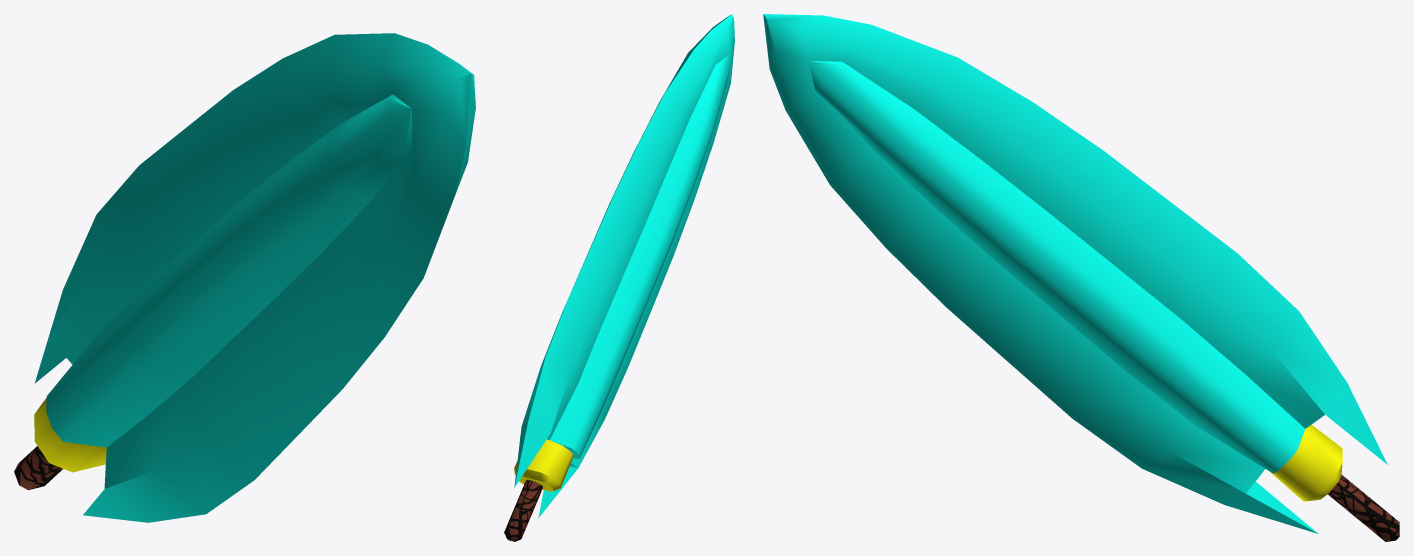
The model's file is EspadaAncha.fbx.
The picture shows the model from 3 angles, left to right: view 1: azimuth 30°, elevation 25°; view 2: azimuth 150°, elevation 25°; view 3: azimuth 270°, elevation 25°; orthographic projection. The views are drawn at different scales.
Visible parts, largest first — view 1: EspaadaAncha; view 2: EspaadaAncha; view 3: EspaadaAncha.
Part boxes in pixels (<box>): EspaadaAncha: <box>14,33,475,522</box>; EspaadaAncha: <box>504,14,734,541</box>; EspaadaAncha: <box>763,14,1399,541</box>.
Bounding box in the file's own units: 18.17 × 108 × 119.
